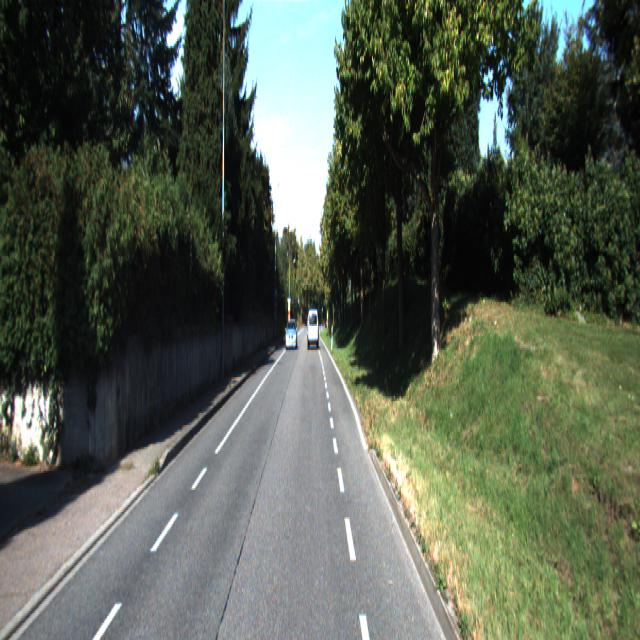Car: (306, 307, 320, 350), (285, 317, 297, 350)
